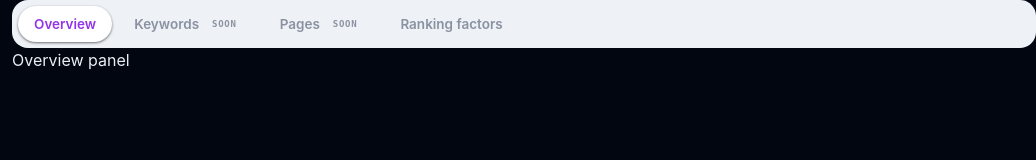
SignalTabs SOON tabs › is selectable by click and opens its panel
The width and height of the screenshot is (1036, 160).
Click the tab "Keywords SOON": (188, 24) [118,6,258,42]
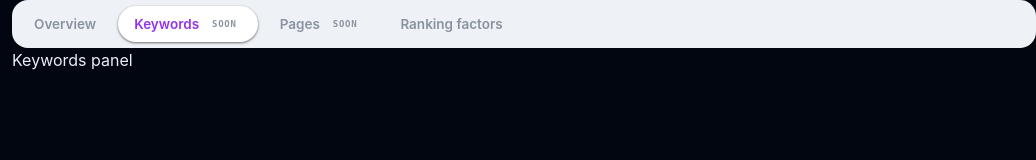
Result: the panel "Keywords panel" is shown at [12,50,133,70]
